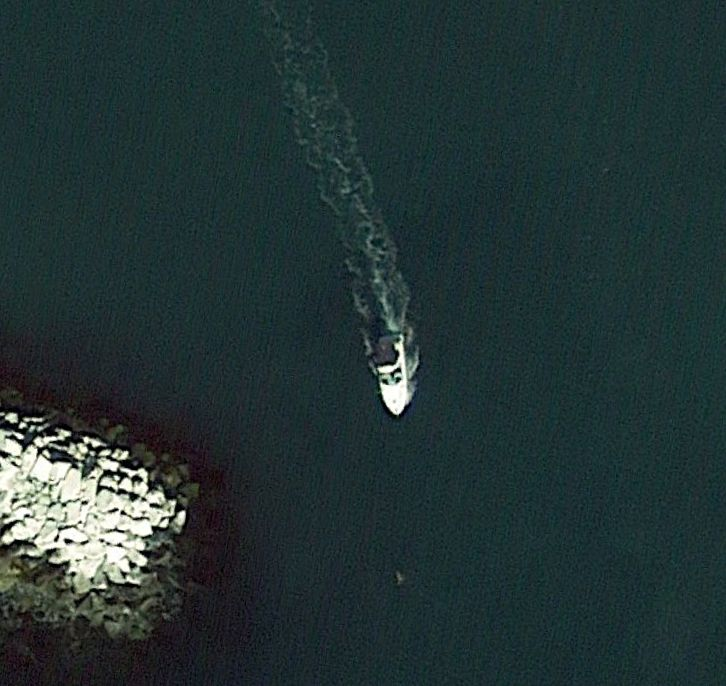boat: (371, 328, 414, 419)
